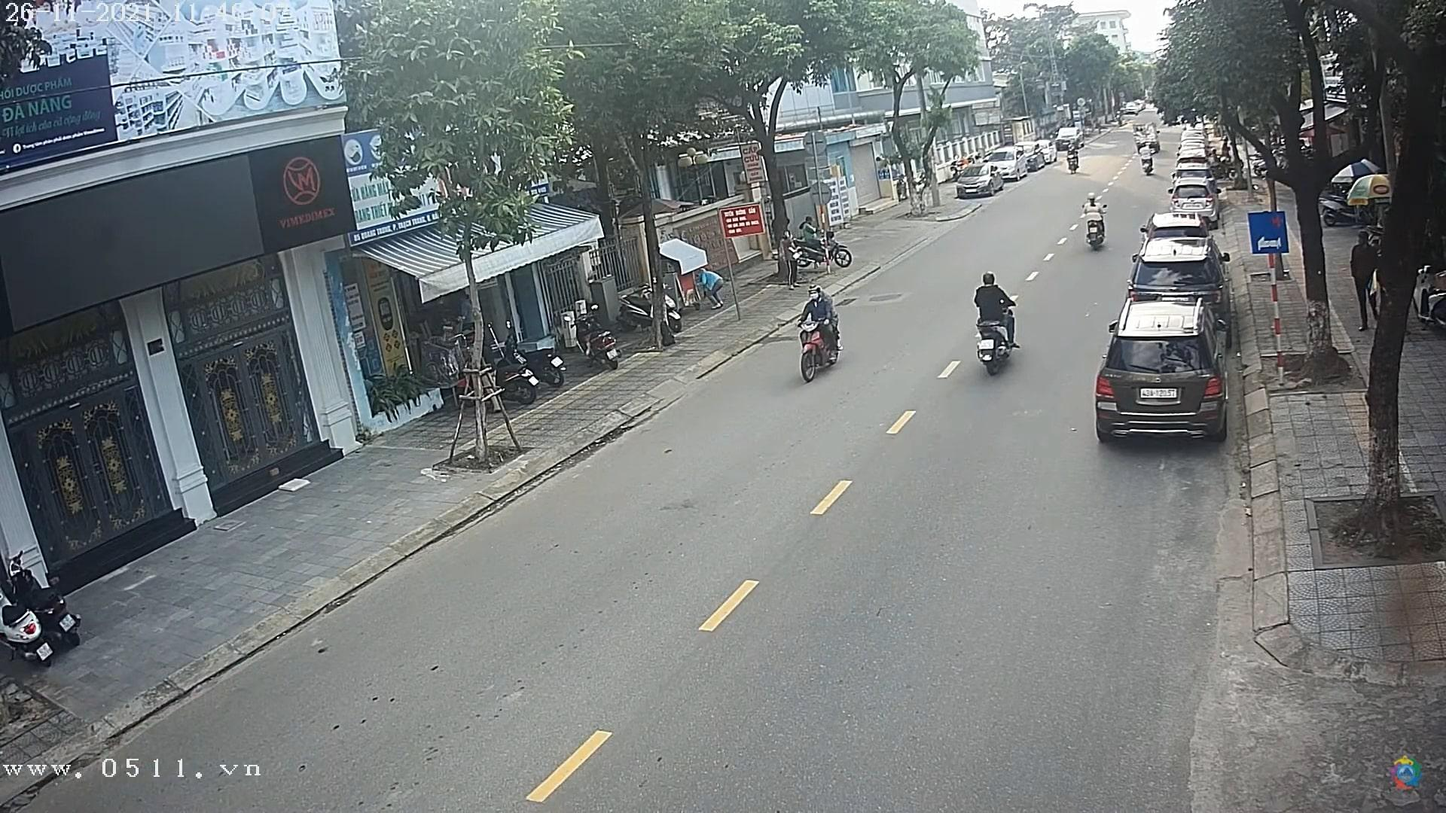car: (1097, 302, 1227, 444), (1128, 235, 1229, 304), (957, 160, 1014, 197)
motorbike: (797, 320, 841, 390), (975, 321, 1017, 377), (1083, 212, 1111, 254)
